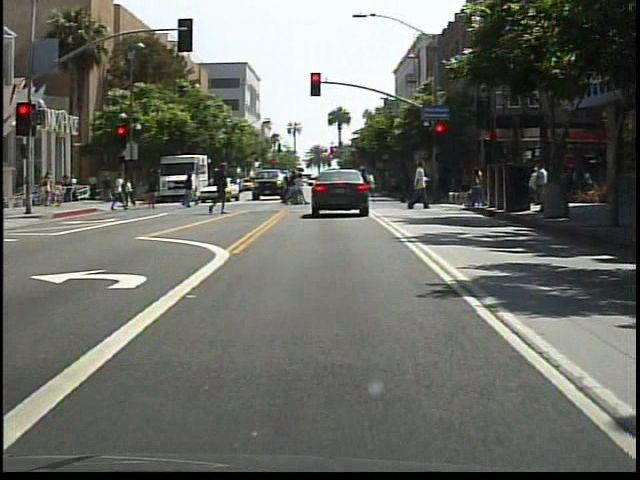person: (208, 163, 234, 220), (406, 159, 433, 212), (325, 168, 346, 215), (179, 172, 200, 212), (112, 172, 130, 217)
